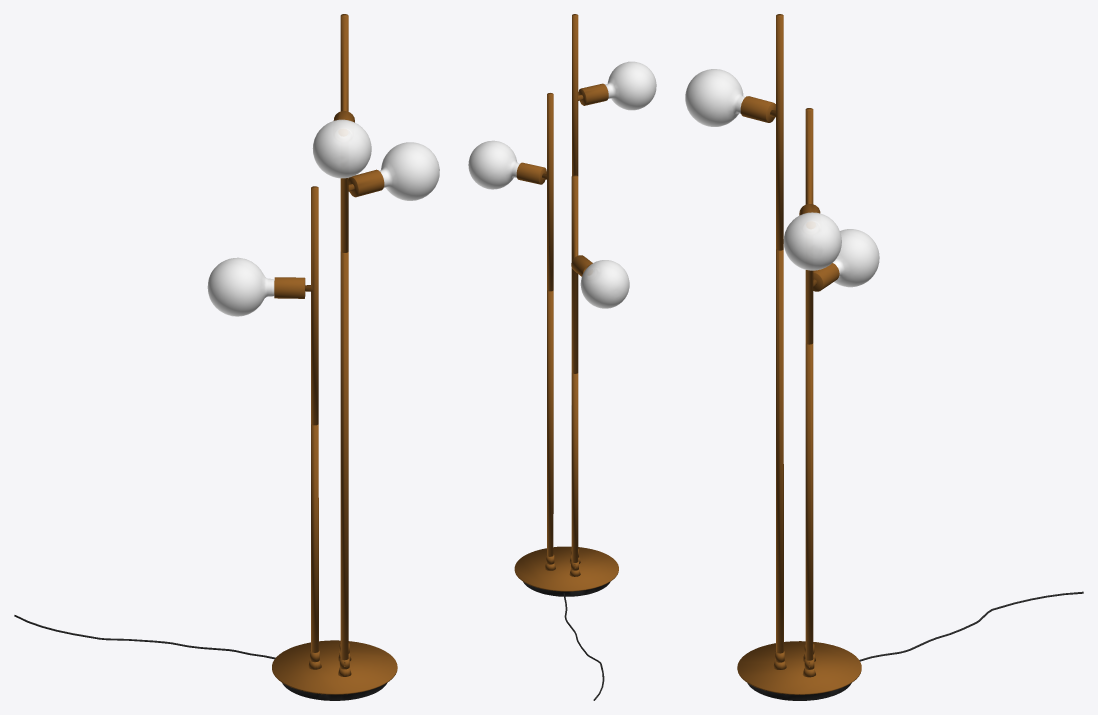
File: lamp.fbx
3 views of the same model, side by side, from view 1: azimuth 30°, elevation 25°; view 2: azimuth 150°, elevation 25°; view 3: azimuth 270°, elevation 25° (orthographic). The views are drawn at different scales.
Parts seen in each view (by area): view 1: Hubsch_Bulb; view 2: Hubsch_Bulb; view 3: Hubsch_Bulb.
Boxes of the visible parts, x1,y1,x2,y2 form: Hubsch_Bulb: (14, 14, 439, 700); Hubsch_Bulb: (468, 14, 656, 700); Hubsch_Bulb: (685, 14, 1083, 700).
Size of the model in its own units: 6697 by 15055 by 8198.
